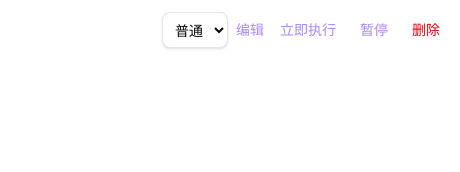
任务管理 › 运行中任务也能快捷调整优先级
The width and height of the screenshot is (460, 172).
Select "高" in the dropdown named "调整任务 3 的优先级" at (195, 30), box [162, 12, 228, 48]
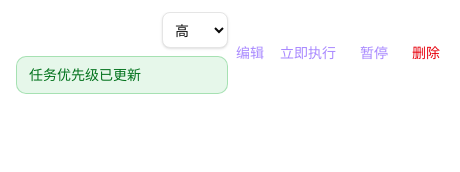
Check: the text "任务优先级已更新" is shown, box [29, 65, 141, 84]
